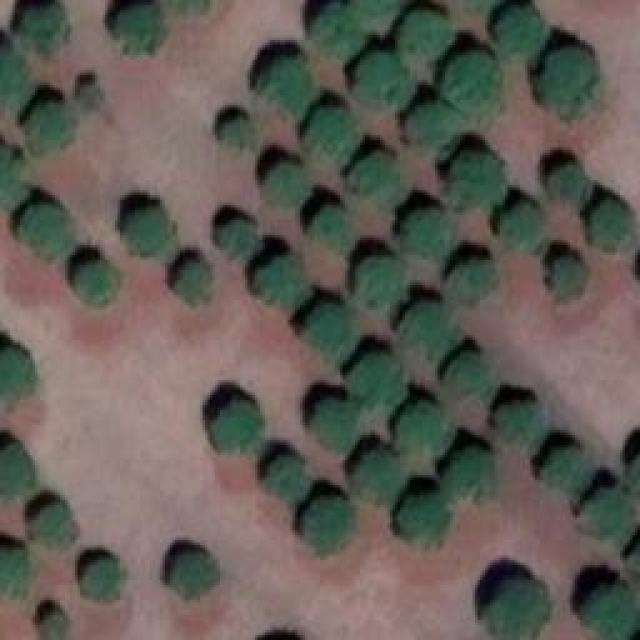Tree: (542, 50, 600, 118), (485, 580, 548, 640), (400, 297, 463, 355), (17, 205, 75, 265), (350, 153, 408, 213), (348, 355, 411, 408), (355, 55, 415, 110), (445, 53, 500, 113), (263, 57, 318, 115), (305, 108, 360, 163), (583, 490, 638, 545), (258, 255, 311, 310), (310, 3, 365, 56), (398, 403, 451, 458), (305, 305, 358, 360), (303, 498, 356, 553), (450, 153, 508, 203), (128, 210, 181, 260), (403, 10, 456, 60), (355, 450, 405, 503), (20, 3, 68, 56), (28, 103, 78, 153), (213, 400, 263, 450), (585, 587, 632, 640), (445, 352, 495, 400), (400, 495, 450, 543), (407, 210, 455, 258), (445, 447, 493, 495), (543, 448, 596, 491), (117, 5, 165, 50), (357, 258, 405, 303), (410, 105, 458, 148), (315, 400, 358, 448), (0, 50, 35, 108), (265, 163, 310, 208), (498, 8, 543, 53), (173, 553, 218, 596), (310, 208, 355, 251), (450, 258, 495, 301), (588, 203, 631, 248), (0, 350, 38, 400), (498, 403, 541, 446), (35, 503, 75, 546), (270, 455, 308, 500), (0, 147, 28, 205), (503, 205, 543, 245), (77, 260, 115, 300), (548, 165, 591, 200), (0, 447, 32, 494), (85, 560, 120, 600), (0, 548, 28, 598), (223, 220, 258, 253), (180, 260, 213, 295), (555, 257, 583, 295), (225, 120, 253, 148), (40, 615, 68, 640), (78, 85, 103, 108)
